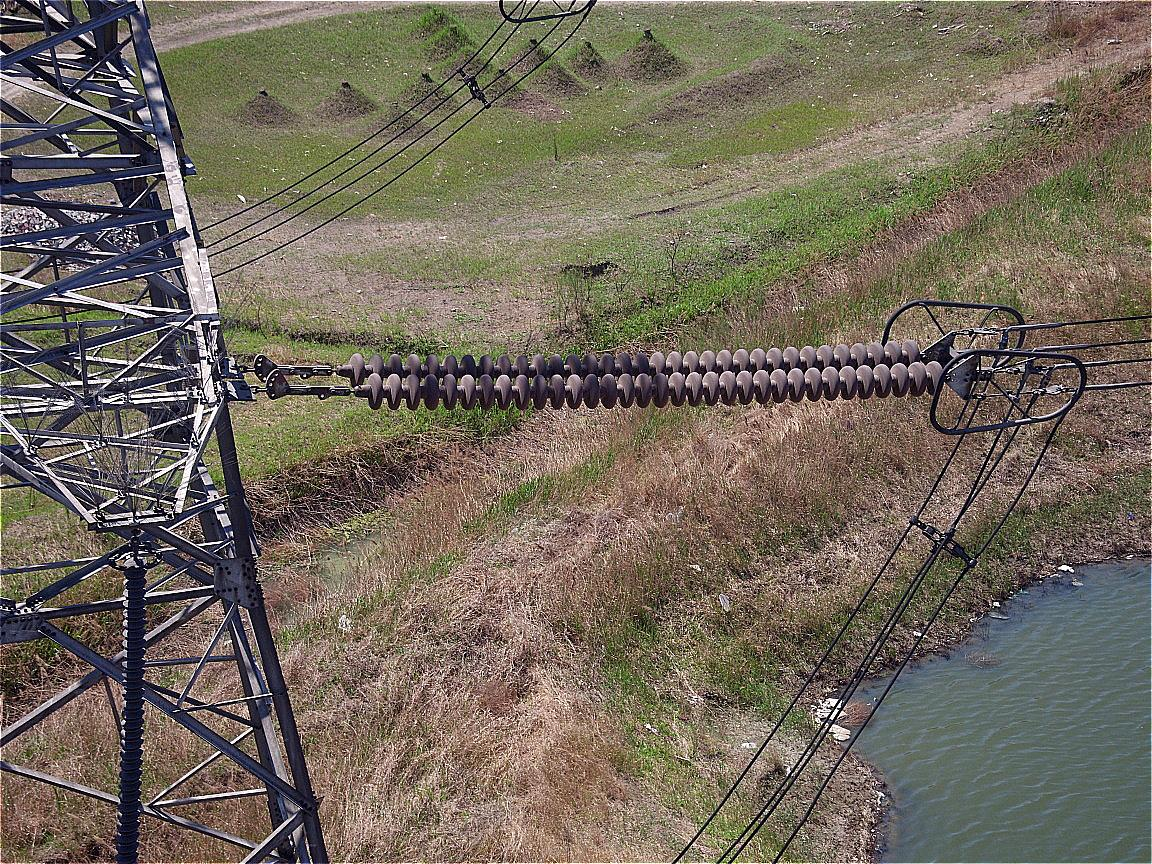insultor1: (346, 339, 950, 413)
